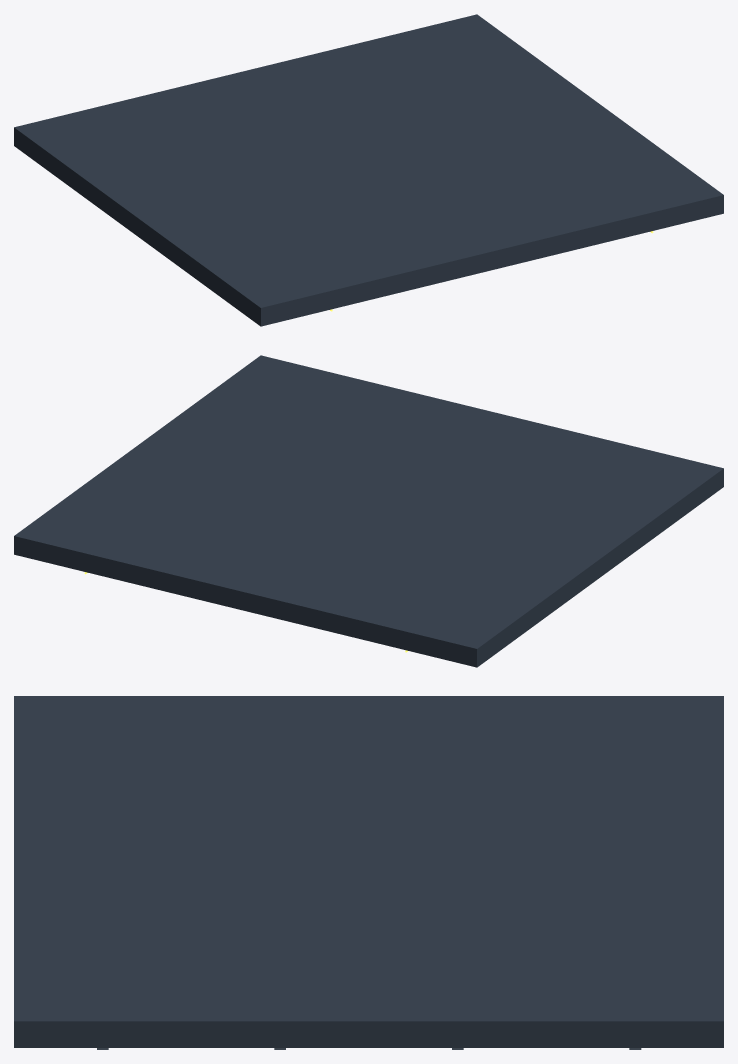
The model's file is covered_roof.glb.
3 views of the same model, one above another, from view 1: azimuth 30°, elevation 25°; view 2: azimuth 150°, elevation 25°; view 3: azimuth 270°, elevation 25° (orthographic). The views are drawn at different scales.
Visible parts, largest first — view 1: covered_roof; view 2: covered_roof; view 3: covered_roof.
Part boxes in pixels (x1=…): covered_roof: x1=14, y1=14, x2=723, y2=326; covered_roof: x1=14, y1=355, x2=723, y2=667; covered_roof: x1=14, y1=696, x2=723, y2=1049.
Size of the model in its own units: 104 by 5.38 by 96.
